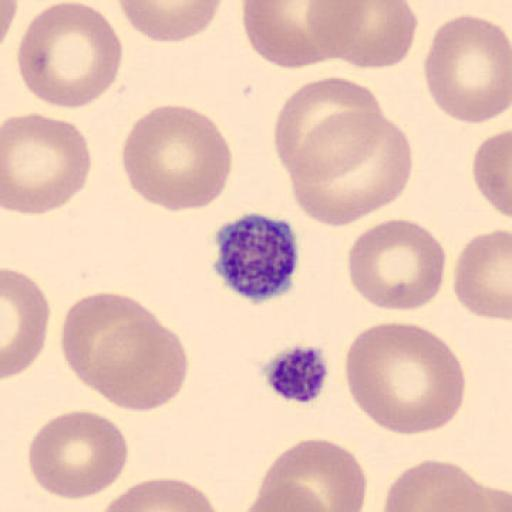Platelet: (209, 210, 302, 305), (259, 342, 331, 406)
RBC: (288, 108, 415, 228), (61, 291, 186, 410), (344, 321, 467, 435), (120, 104, 234, 214), (15, 0, 124, 110), (273, 75, 385, 180), (61, 290, 165, 390), (422, 13, 512, 125), (346, 216, 448, 312), (26, 408, 130, 502), (2, 110, 92, 216), (90, 318, 189, 413), (256, 437, 368, 512), (241, 0, 356, 71), (306, 0, 419, 69), (380, 458, 508, 512), (2, 266, 52, 380), (452, 228, 512, 322), (116, 0, 224, 44), (95, 476, 221, 512), (472, 128, 512, 220), (241, 479, 334, 512), (0, 0, 20, 55), (0, 0, 20, 41)
